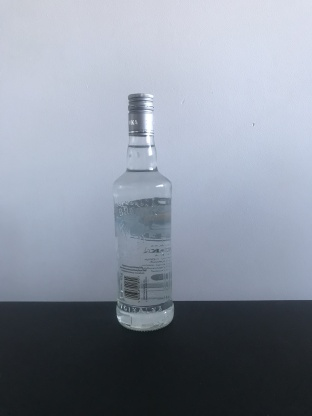nakretka: (126, 91, 156, 138)
